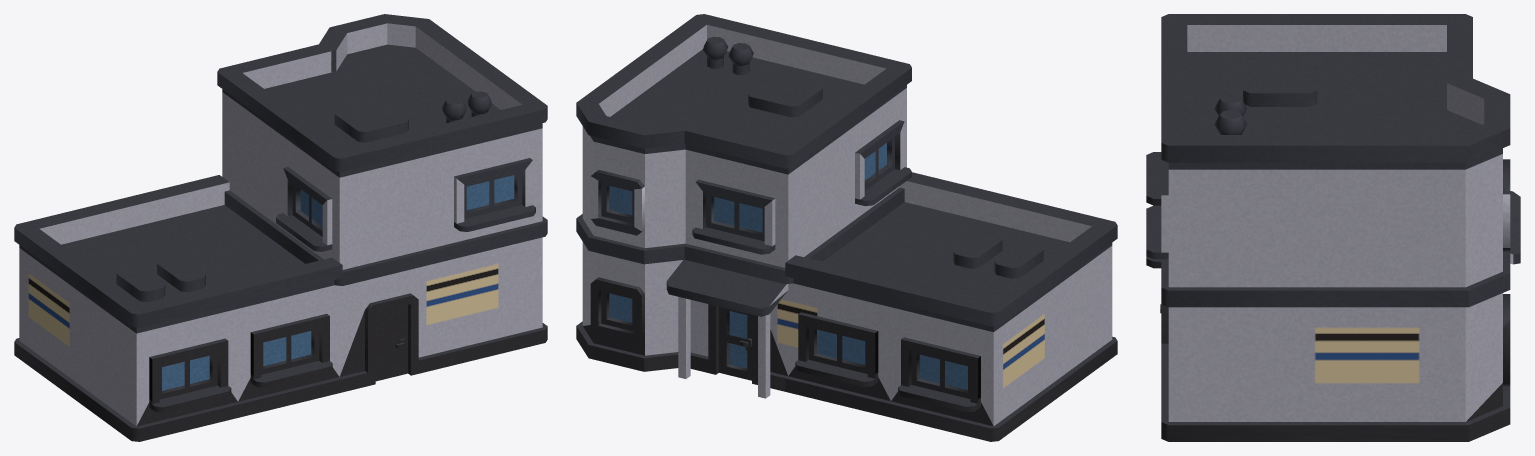
Rendered from building-e-white.glb.
3 renders of one model, left to right at view 1: azimuth 30°, elevation 25°; view 2: azimuth 150°, elevation 25°; view 3: azimuth 270°, elevation 25°, orthographic. The views are drawn at different scales.
Parts seen in each view (by area): view 1: building-e-white; view 2: building-e-white; view 3: building-e-white.
Boxes of the visible parts, x1,y1,x2,y2 form: building-e-white: (14,14,547,441); building-e-white: (576,14,1117,441); building-e-white: (1146,14,1520,441).
Bounding box in the file's own units: 1.64 × 0.893 × 1.01.
Materials: 1 (1 with a texture image).
